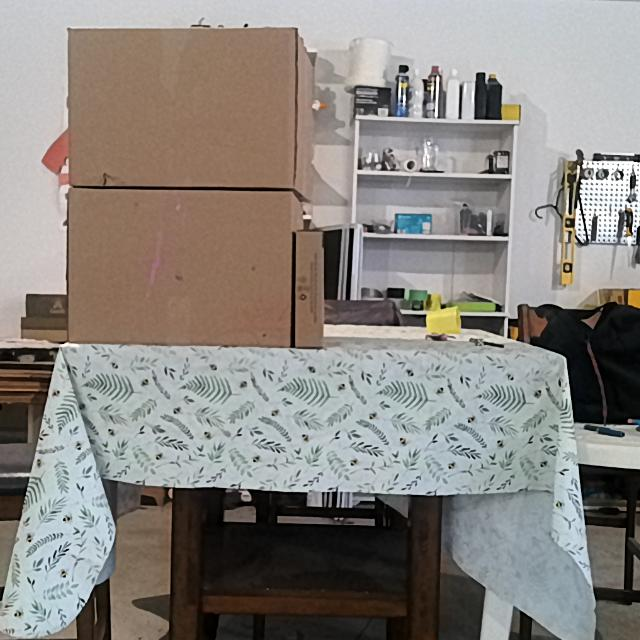box: (66, 26, 295, 189), (65, 188, 289, 347), (294, 230, 325, 346)
